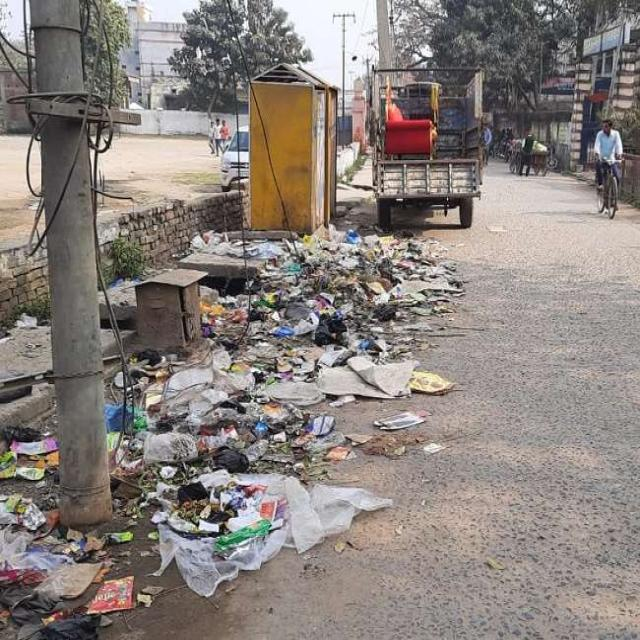garbage: (0, 219, 520, 640)
